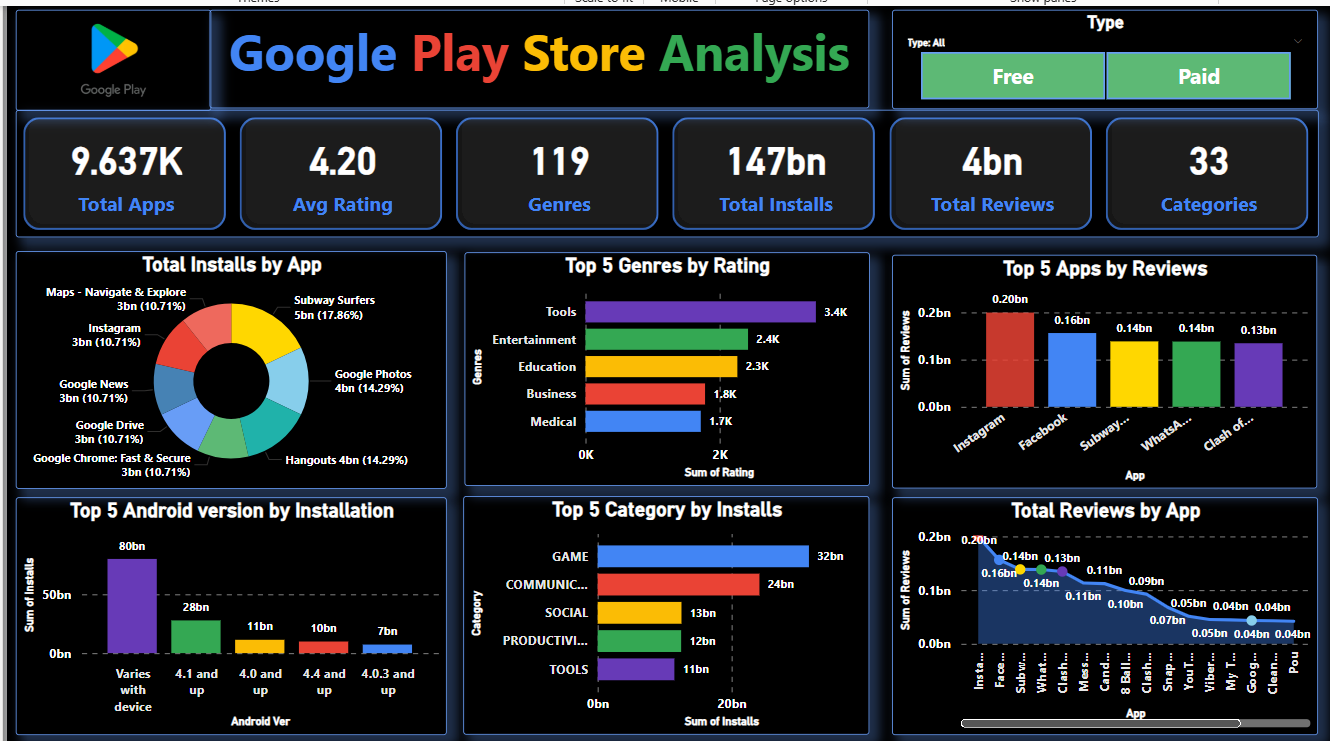

This screenshot's page, from the dashboard's own definition file:
{"tool":"powerbi","page":{"name":"Page 1","canvas":[1280,720],"ordinal":0},"visuals":[{"type":"donutChart","title":"Total Installs by App","fields":{"Y":["Sum(cleaned_data.Installs)"],"Category":["cleaned_data.App"]},"box":[8.4,236.5,416.2,229.2],"z":0},{"type":"barChart","title":"Top 5 Genres by Rating","fields":{"Category":["cleaned_data.Genres"],"Y":["Sum(cleaned_data.Rating)"]},"box":[441.6,237.7,390.9,225.6],"z":1000},{"type":"columnChart","title":"Top 5 Apps by Reviews","fields":{"Category":["cleaned_data.App"],"Y":["Sum(cleaned_data.Reviews)"]},"box":[854.2,240.1,410.2,225.6],"z":2000},{"type":"columnChart","title":"Top 5 Android version by Installation","fields":{"Y":["Sum(cleaned_data.Installs)"],"Category":["cleaned_data.Android Ver"]},"box":[8.4,474.1,416.2,229.2],"z":3000},{"type":"clusteredBarChart","title":"Top 5 Category  by Installs","fields":{"Category":["cleaned_data.Category"],"Y":["Sum(cleaned_data.Installs)"]},"box":[440.4,472.9,392.1,230.4],"z":4000},{"type":"areaChart","title":"Total Reviews by App","fields":{"Category":["cleaned_data.App"],"Y":["Sum(cleaned_data.Reviews)"]},"box":[854.2,474.1,411.4,229.2],"z":5000},{"type":"cardVisual","fields":{"Data":["Count(cleaned_data.App)","Avg(cleaned_data.Rating)","Count(cleaned_data.Genres)","Sum(cleaned_data.Installs)","Sum(cleaned_data.Reviews)","Count(cleaned_data.Category)"]},"box":[8.2,100,1257.3,123.3],"z":6000},{"type":"slicer","title":"Type","fields":{"Values":["cleaned_data.Type"]},"box":[854.6,4.1,410.9,95.9],"z":7000},{"type":"textbox","box":[195.4,3.6,637,95.3],"z":8000},{"type":"image","box":[8.2,4.1,189,97.2],"z":9000}]}

Visuals, with their boxes in screenshot pixels (x1, y1, x2, y2):
"Total Installs by App" donutChart: rect(2, 249, 440, 490)
"Top 5 Genres by Rating" barChart: rect(458, 250, 869, 488)
"Top 5 Apps by Reviews" columnChart: rect(892, 253, 1324, 490)
"Top 5 Android version by Installation" columnChart: rect(2, 499, 440, 740)
"Top 5 Category  by Installs" clusteredBarChart: rect(457, 498, 869, 740)
"Total Reviews by App" areaChart: rect(892, 499, 1325, 740)
cardVisual - Count(cleaned_data.App) x Avg(cleaned_data.Rating): rect(2, 105, 1325, 235)
"Type" slicer: rect(893, 4, 1325, 105)
textbox: rect(199, 4, 869, 104)
image: rect(2, 4, 201, 107)
